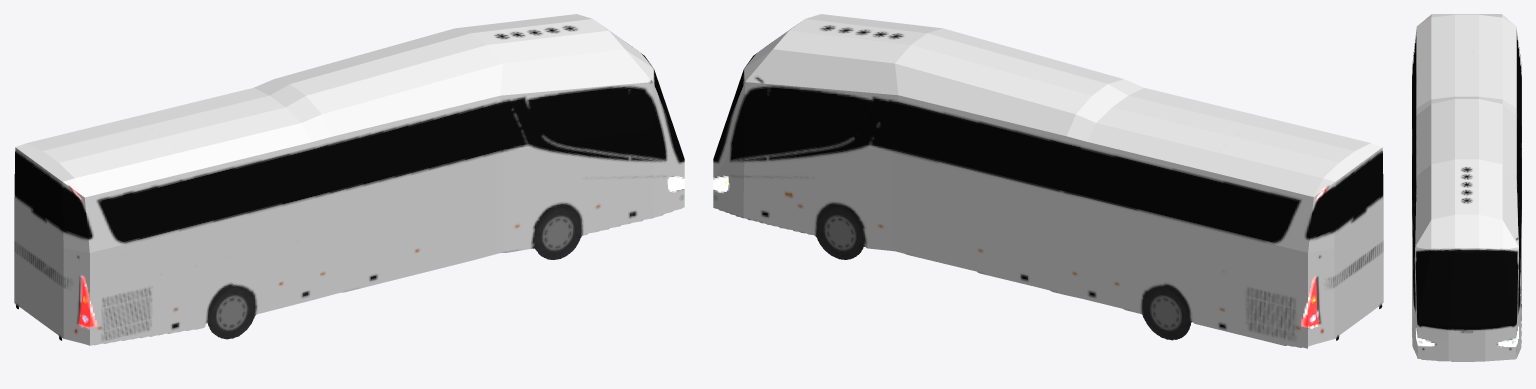
File: bus2.glb
3 views of the same model, side by side, from view 1: azimuth 30°, elevation 25°; view 2: azimuth 150°, elevation 25°; view 3: azimuth 270°, elevation 25° (orthographic). The views are drawn at different scales.
Visible parts, largest first — view 1: Cube.004; view 2: Cube.004; view 3: Cube.004.
Part boxes in pixels (<box>): Cube.004: <box>14,14,684,345</box>; Cube.004: <box>713,14,1383,348</box>; Cube.004: <box>1412,14,1521,361</box>.
Size of the model in its own units: 12.46 by 3.93 by 2.59.
Materials: 5 (5 with a texture image).
